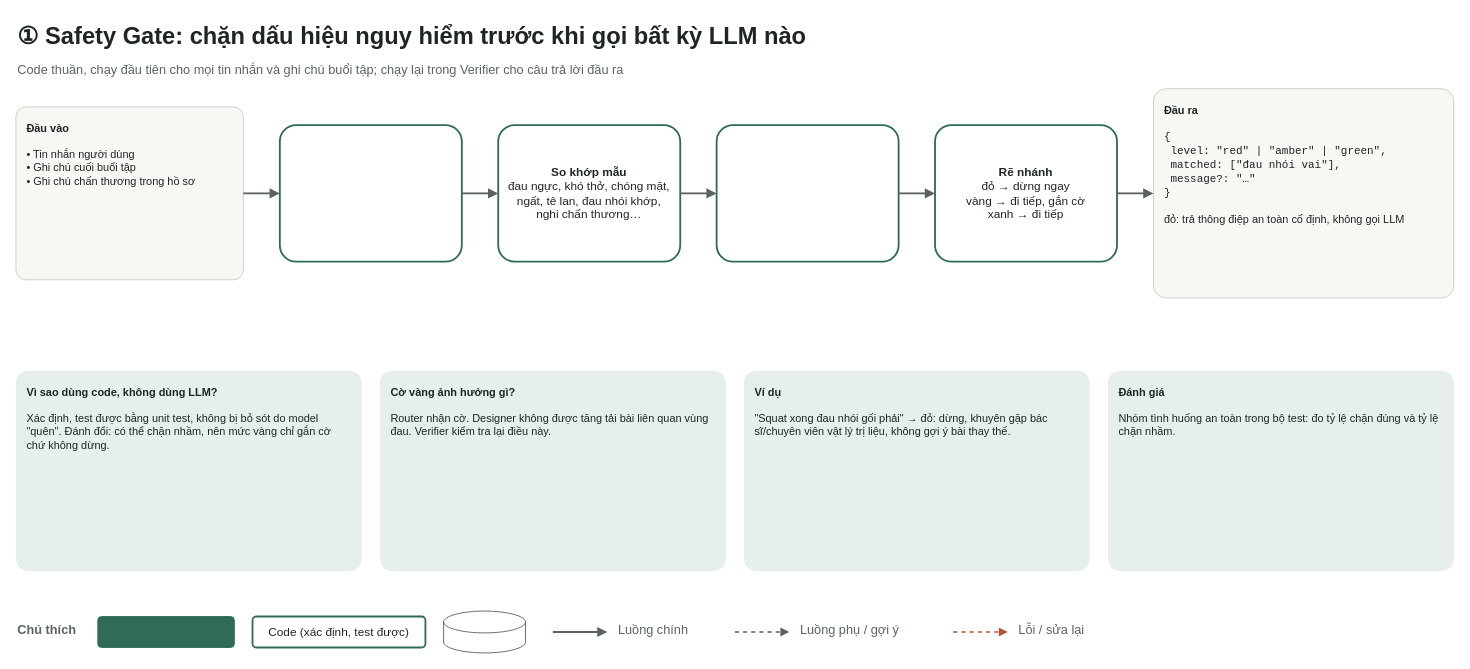
Image size: 1470x669. Some labels were removed from this diagram. The shapes that lost their labels are listed below. From the top down, each one's centre as x and y in pixels, then its label:
At (370,193): "Chuẩn hóa văn bản chữ thường, bỏ dấu, tách từ".
At (807,193): "Phân mức đỏ · vàng · xanh".
At (165,631): "LLM (GPT-4o mini)".
At (484,631): "Dữ liệu".
